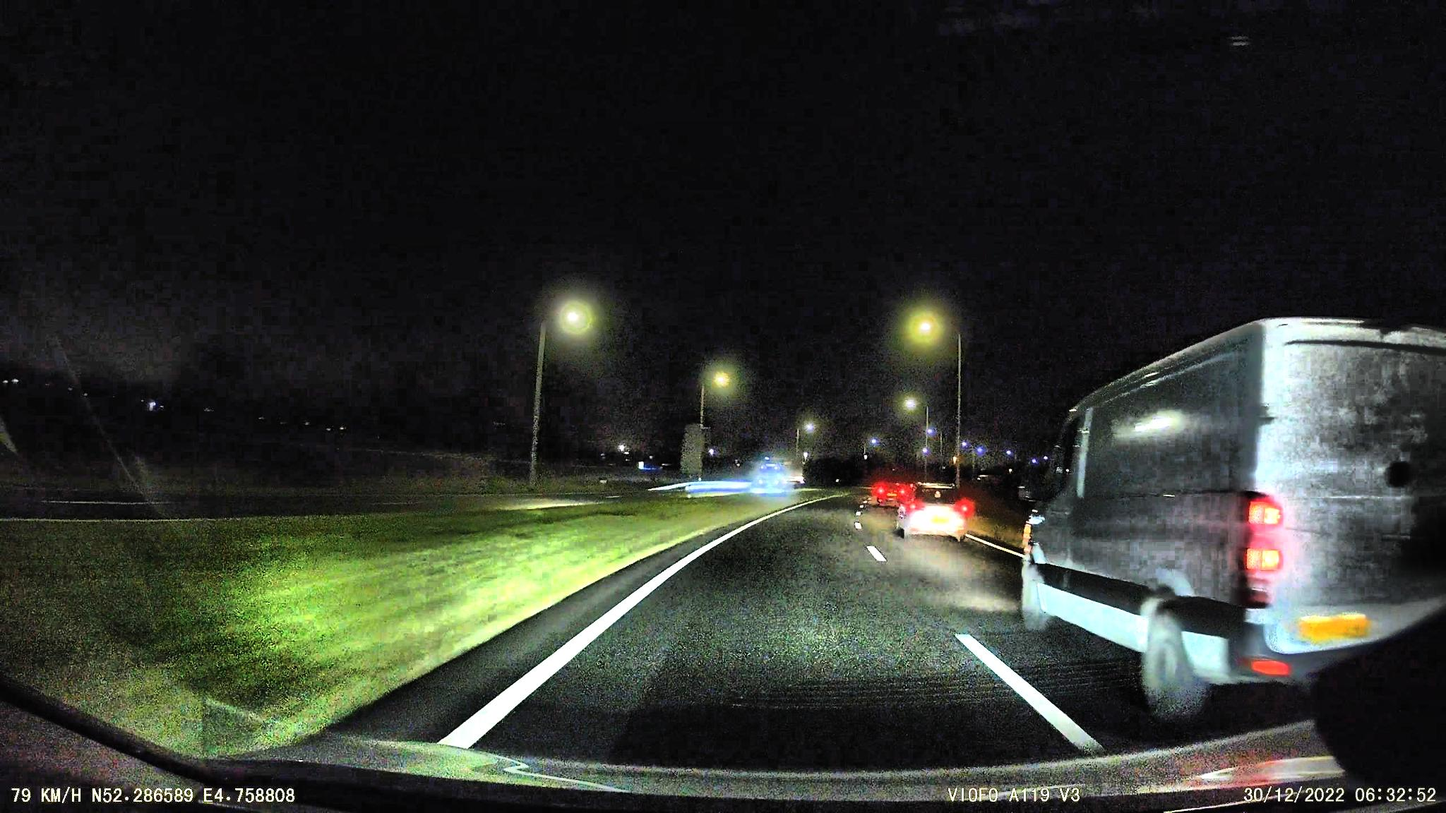Roads: (330, 498, 1202, 764)
